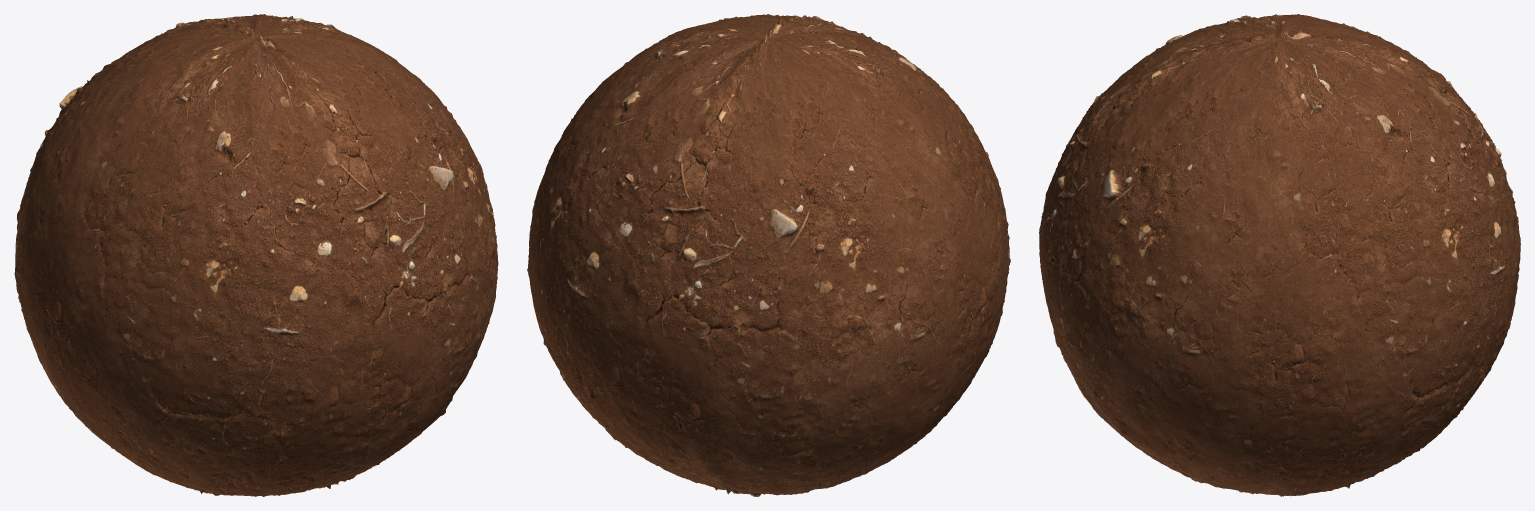
Rendered from red_mud_stones_1k.gltf.
3 views of the same model, side by side, from view 1: azimuth 30°, elevation 25°; view 2: azimuth 150°, elevation 25°; view 3: azimuth 270°, elevation 25° (orthographic).
Parts seen in each view (by area): view 1: sphere_gltf; view 2: sphere_gltf; view 3: sphere_gltf.
Boxes of the visible parts, <box> form: sphere_gltf: <box>14,14,498,496</box>; sphere_gltf: <box>527,14,1010,496</box>; sphere_gltf: <box>1039,14,1520,496</box>.
Size of the model in its own units: 1.5 by 1.52 by 1.5.
Materials: 1 (1 with a texture image).
